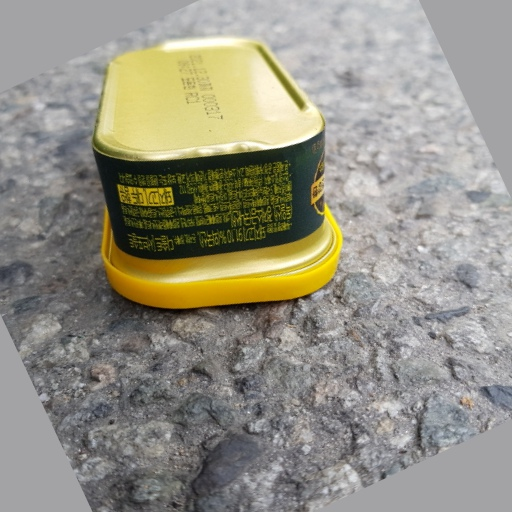Metal_2: (96, 43, 344, 310)
